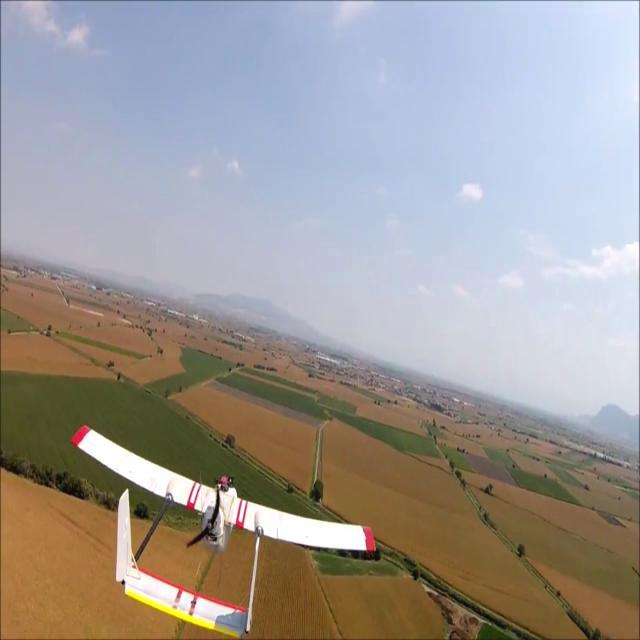iha: (68, 414, 380, 640)
